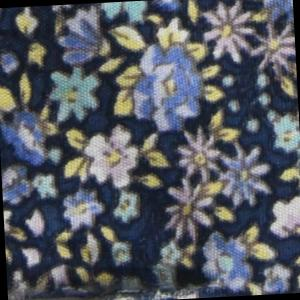Damage: (7, 256, 242, 300)
